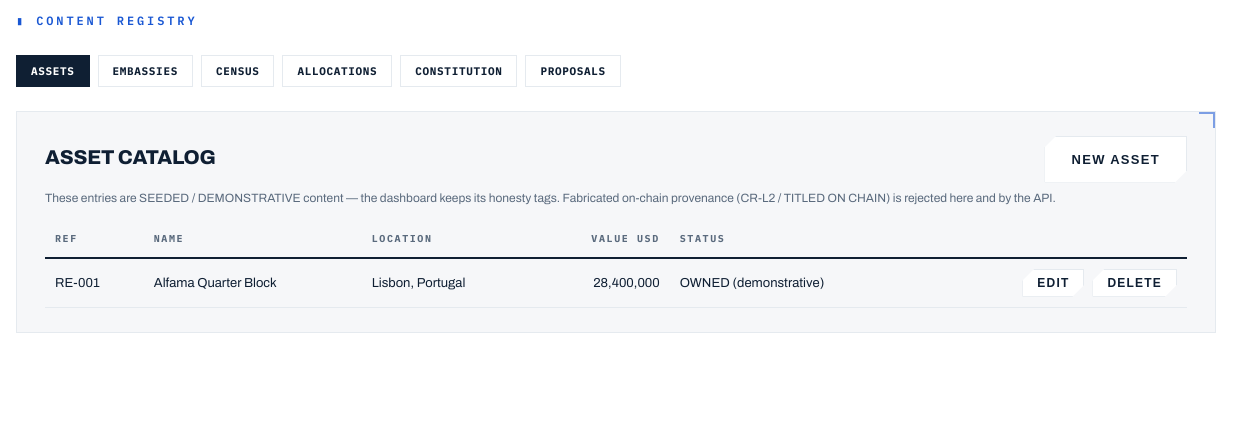
Test: ContentApp › switches tabs between the content groups
expect the text "Alfama Quarter Block" is shown: met, box [144, 258, 362, 307]
Click the button "EMBASSIES".
click(145, 71)  # box [98, 55, 193, 87]
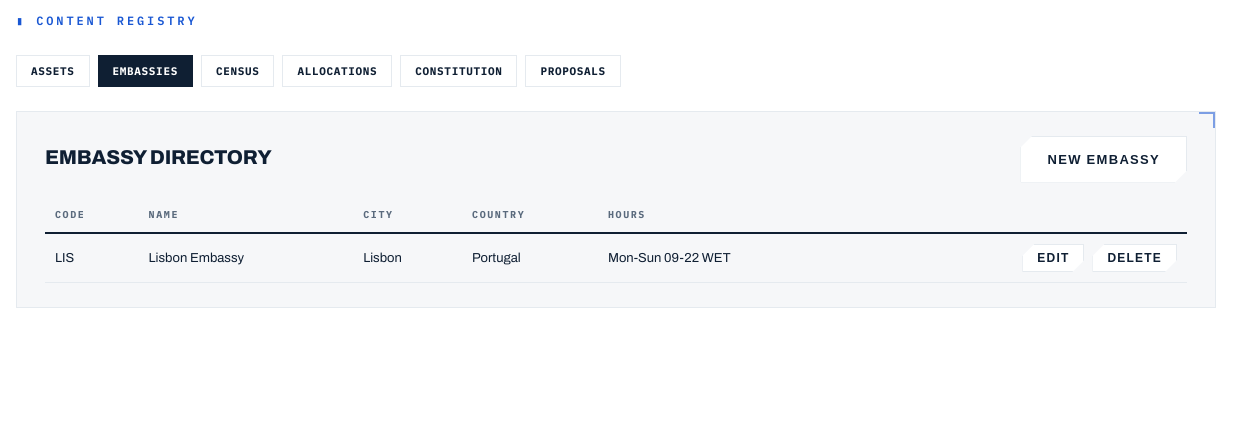
expect the text "Lisbon Embassy" is shown: met, box [139, 233, 353, 283]
Click the button "ALLOCATIONS".
click(337, 71)  # box [282, 55, 392, 87]
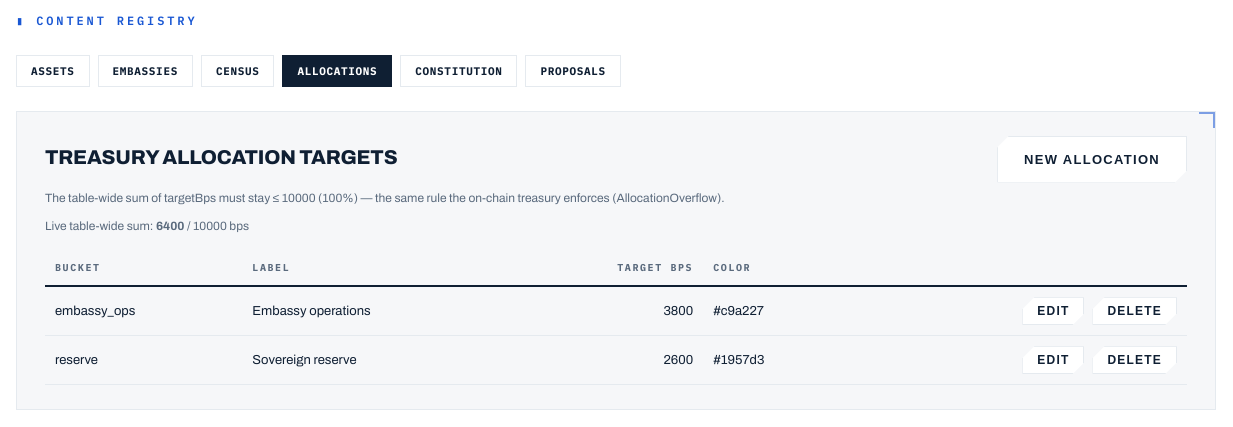
expect the text "Embassy operations" is shown: met, box [242, 286, 514, 336]
